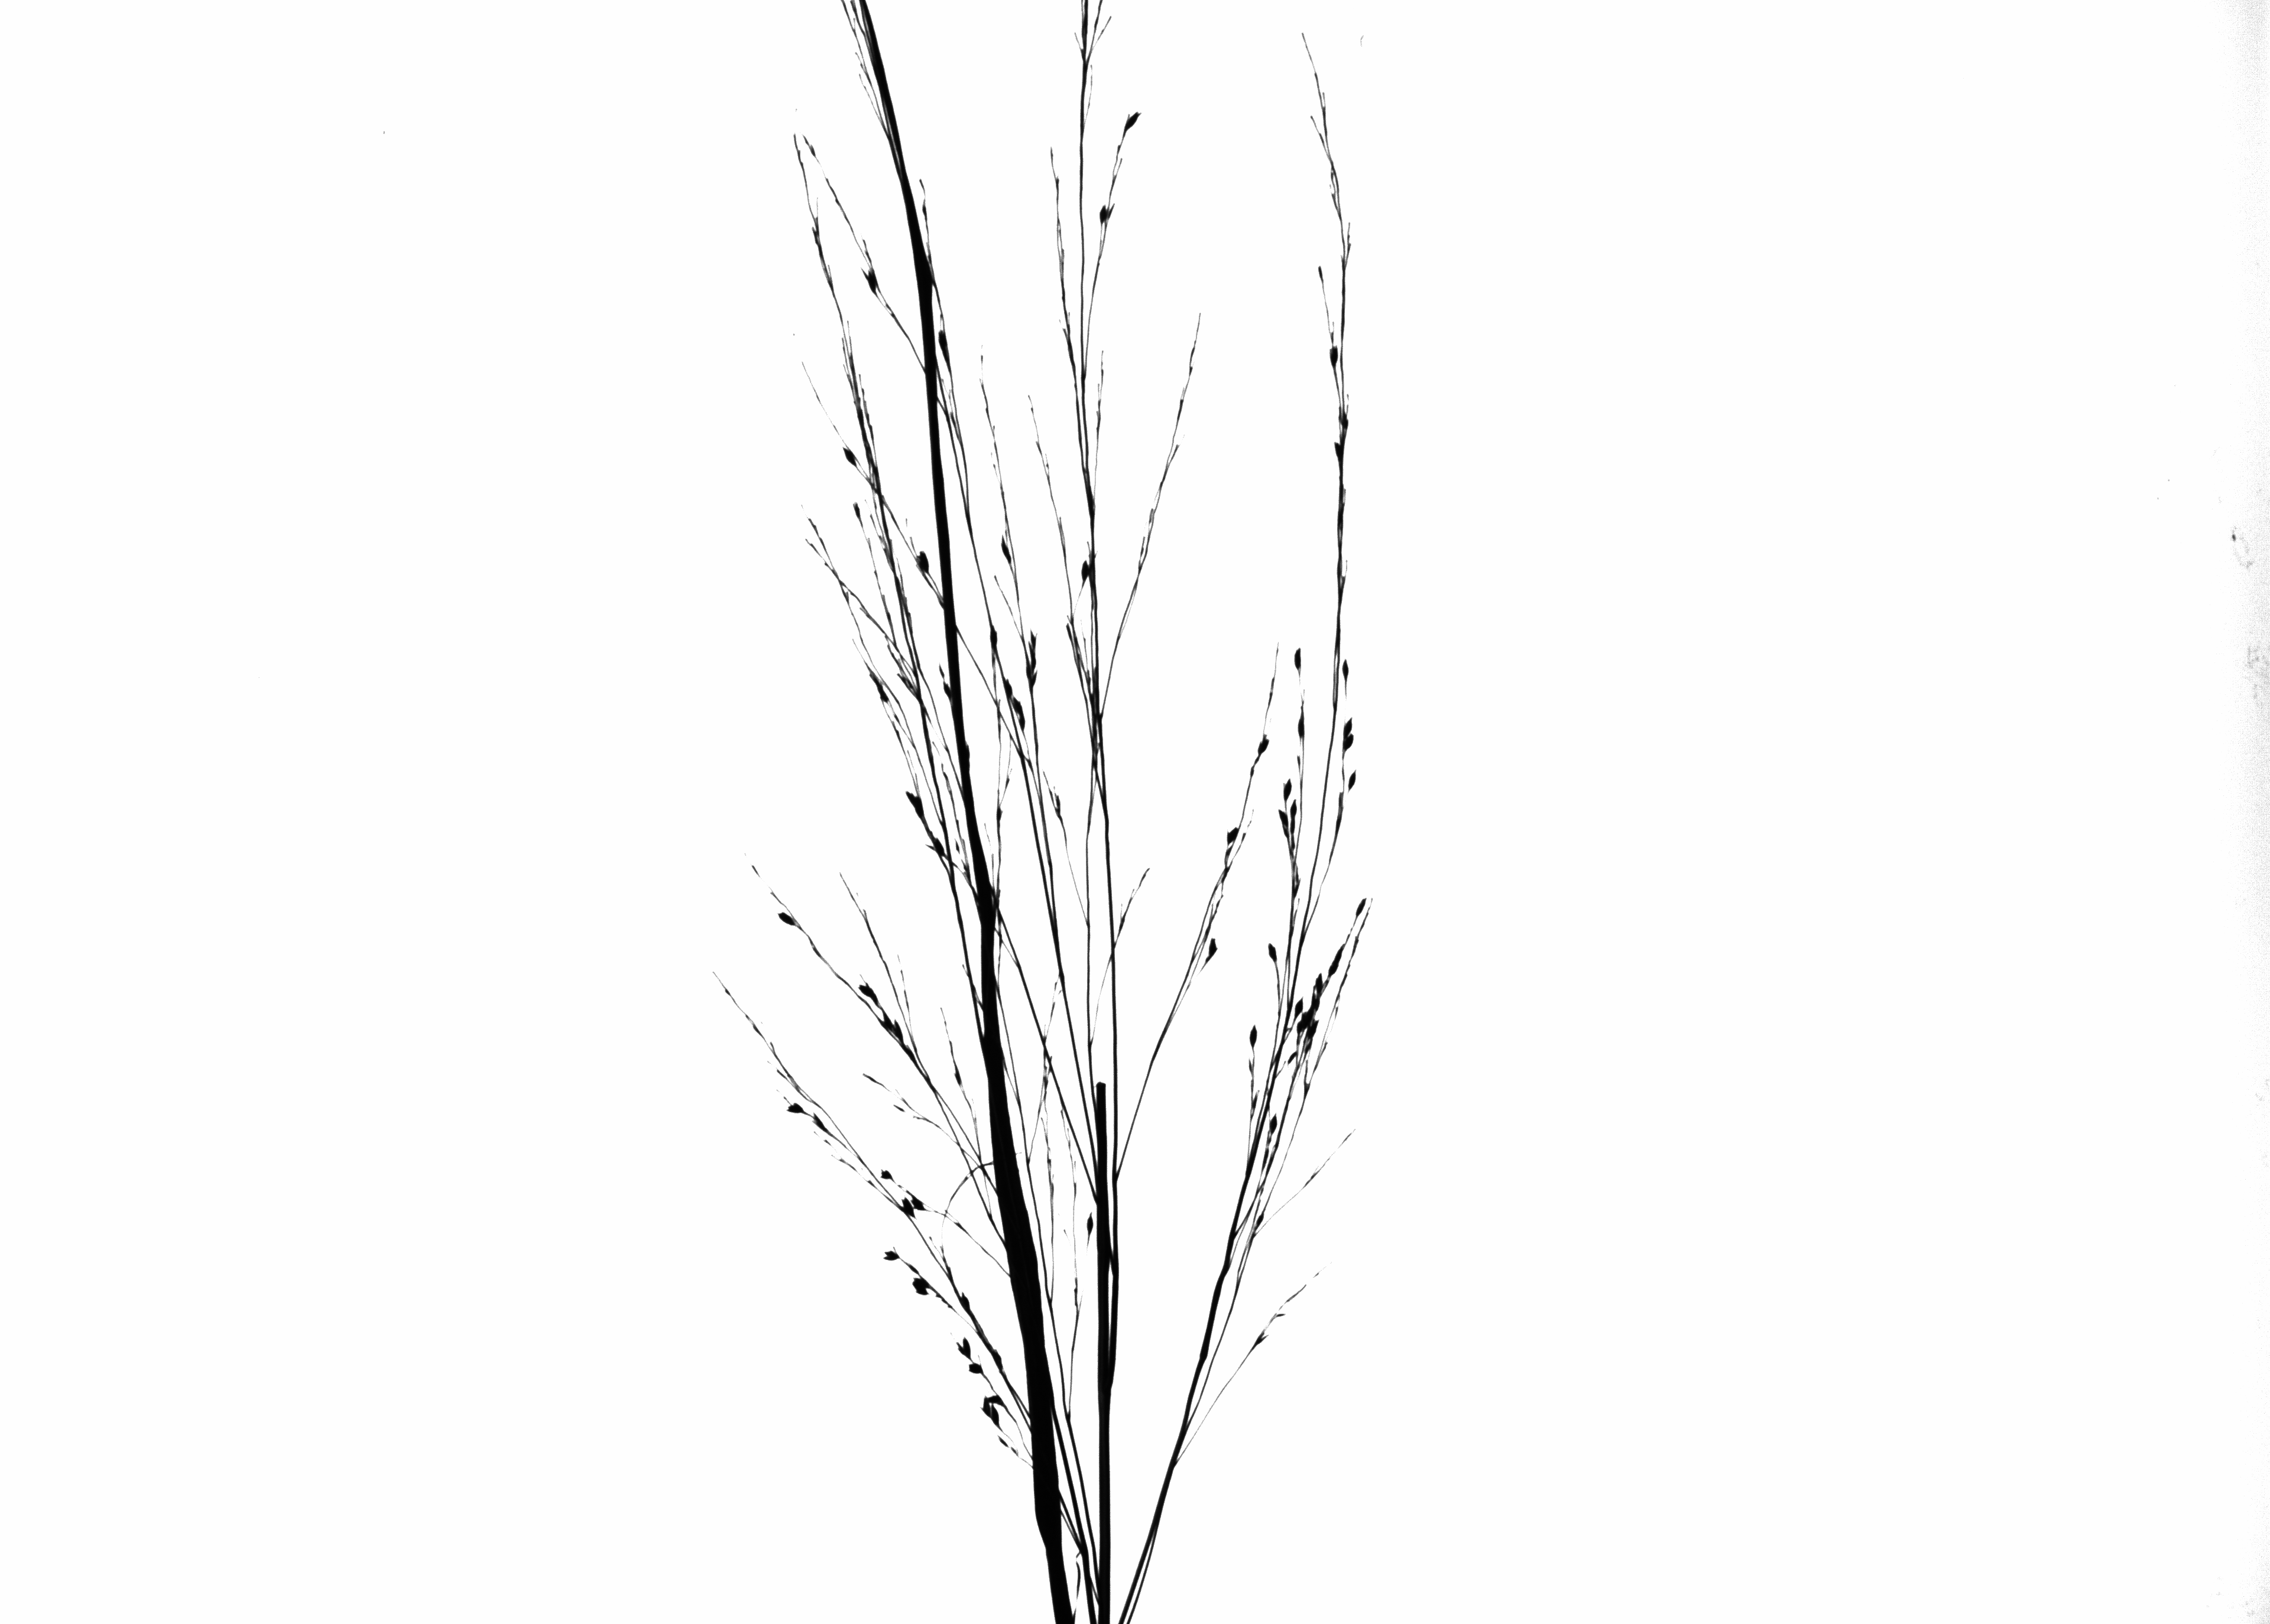seed: (855, 981, 883, 1004), (862, 262, 881, 294), (1122, 107, 1145, 134), (775, 909, 800, 932), (1291, 710, 1308, 742), (997, 533, 1015, 564), (904, 789, 925, 816), (1287, 642, 1305, 671), (1278, 772, 1294, 803), (985, 622, 1002, 650), (1222, 823, 1243, 845), (839, 445, 858, 469), (1338, 656, 1354, 685), (1076, 555, 1092, 585), (916, 547, 932, 575), (1245, 1019, 1261, 1048), (1262, 940, 1282, 963), (1326, 341, 1342, 367), (988, 1404, 1004, 1431), (1255, 731, 1270, 759), (1095, 199, 1110, 227), (893, 1018, 907, 1046), (932, 833, 948, 858), (1083, 1207, 1095, 1239), (782, 1100, 807, 1116), (900, 1193, 916, 1218), (1347, 766, 1361, 793), (1206, 935, 1220, 961), (1292, 993, 1306, 1019), (911, 1272, 934, 1288), (1000, 675, 1015, 700), (958, 1330, 971, 1359), (965, 1362, 986, 1378), (957, 1290, 972, 1309), (1268, 1111, 1280, 1135), (1250, 1088, 1261, 1116), (979, 1394, 1008, 1404), (1356, 895, 1368, 917), (877, 1167, 897, 1181), (883, 1246, 902, 1260), (1317, 968, 1326, 995), (1285, 1049, 1298, 1067), (1291, 796, 1298, 823), (1245, 1056, 1254, 1074)
